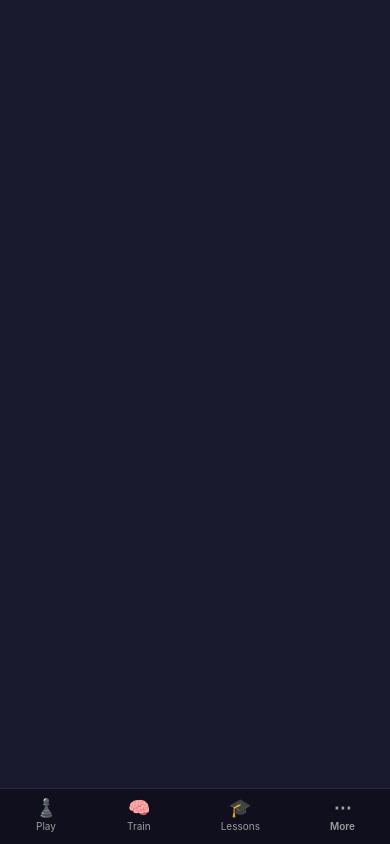
it: <MobileBottomBar> KS-2806 — групповой набор › клик «More» → видны Profile/Analyze/Broadcasts в drawer (то, что не в топе)
Click the button with test id "mobile-bar-more": (342,818) [322,793,363,843]
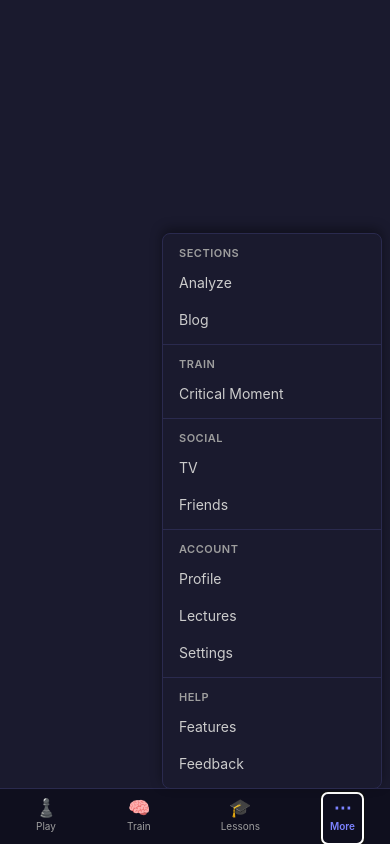
Expected: the link with test id "mobile-more-analyze" is shown, [179,274,232,291]
Expected: the link with test id "mobile-more-broadcasts" is shown, [179,459,198,476]
Expected: the link with test id "mobile-more-profile" is shown, [179,570,222,587]
